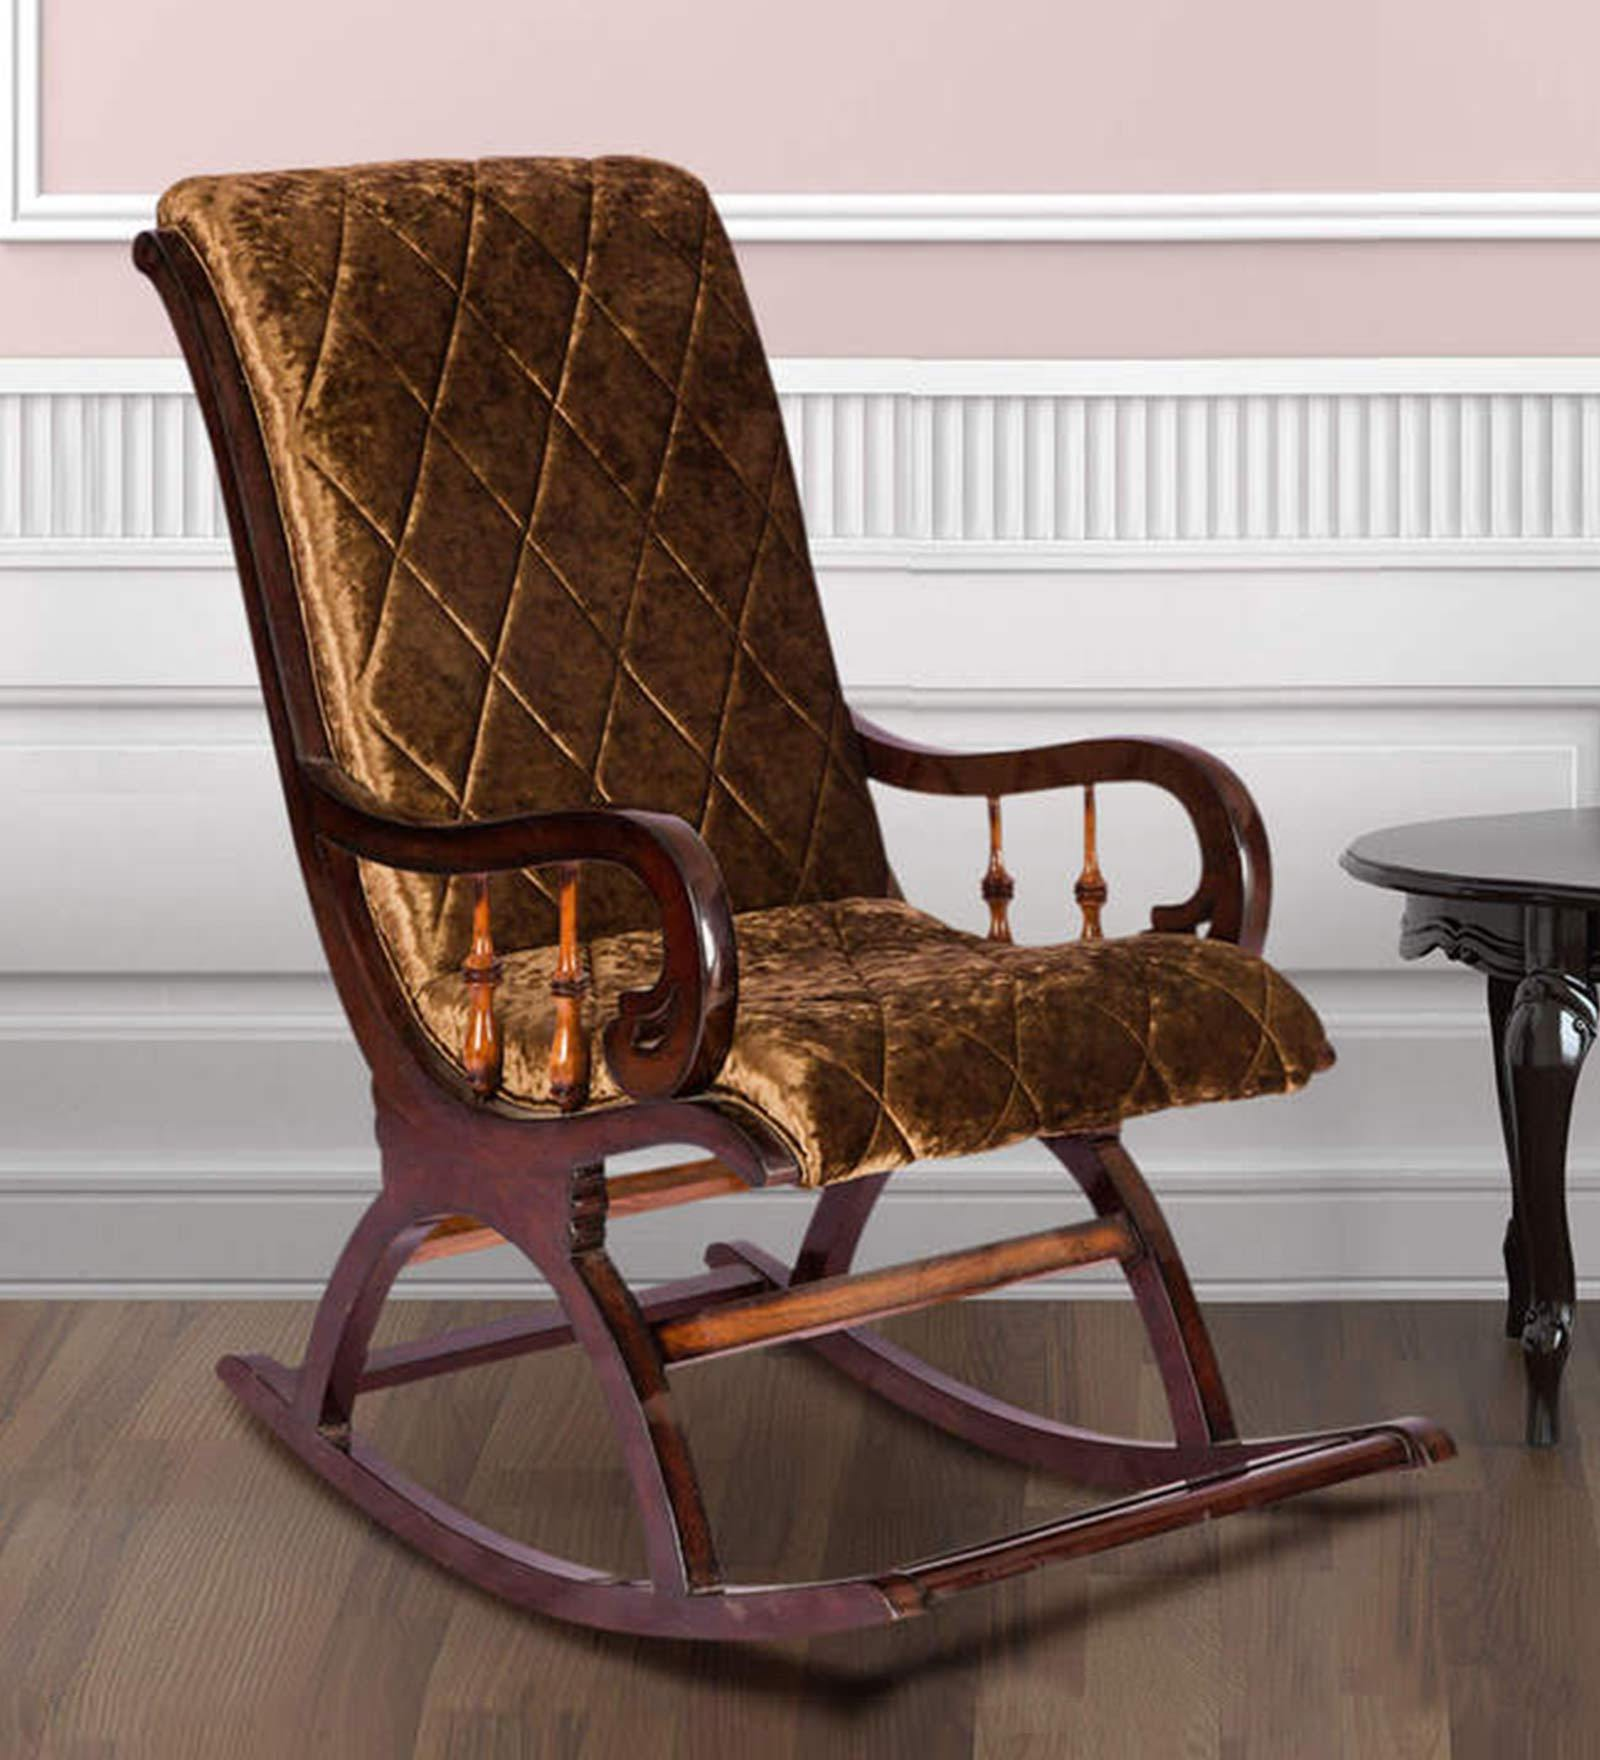Rocking Chair in Dark Brown Colour by Karigar: (100, 149, 1499, 1659)
